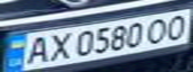0: (72, 28, 96, 57), (124, 20, 148, 48)
5: (93, 25, 115, 55)
8: (109, 22, 130, 52)
A: (18, 34, 54, 66)
O: (160, 11, 193, 40), (142, 16, 172, 44)
X: (42, 29, 72, 62)
